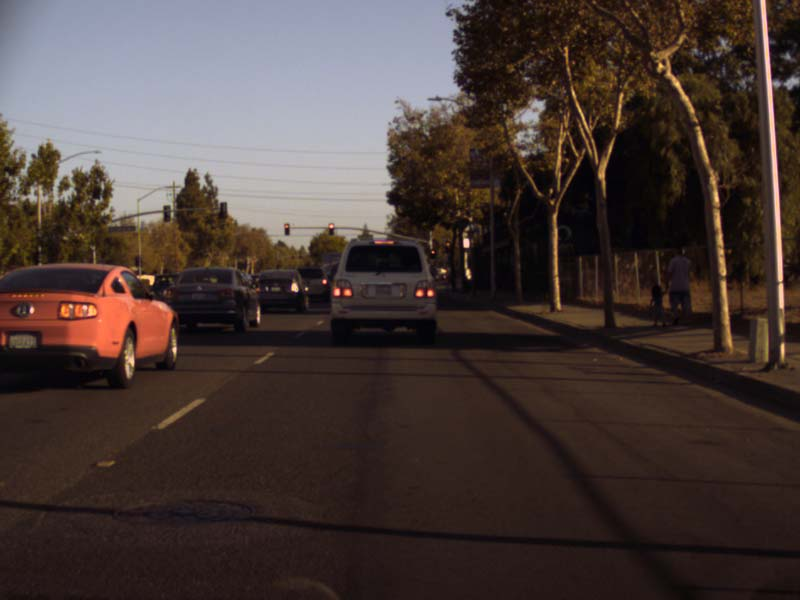Red: (328, 222, 334, 235), (444, 240, 450, 252), (283, 223, 289, 234), (430, 249, 434, 259)
